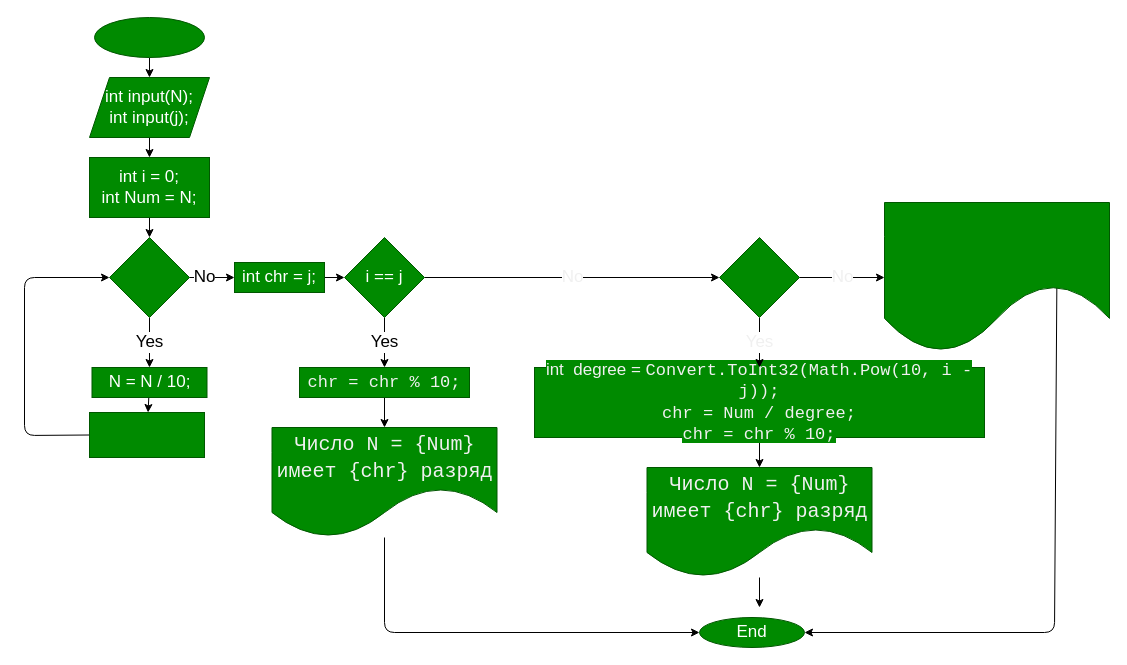
The diagram is 1127 pixels wide and 665 high, and some of its shapes have lost their labels. The centre of each missing label's shape, as x and y in pixels:
i = i+1;: [146,435]
i > j: [759,277]
N > 0: [149,277]
Start: [149,37]
Число N = {Num} не имеет такой цифры (Разряда): [997,277]
